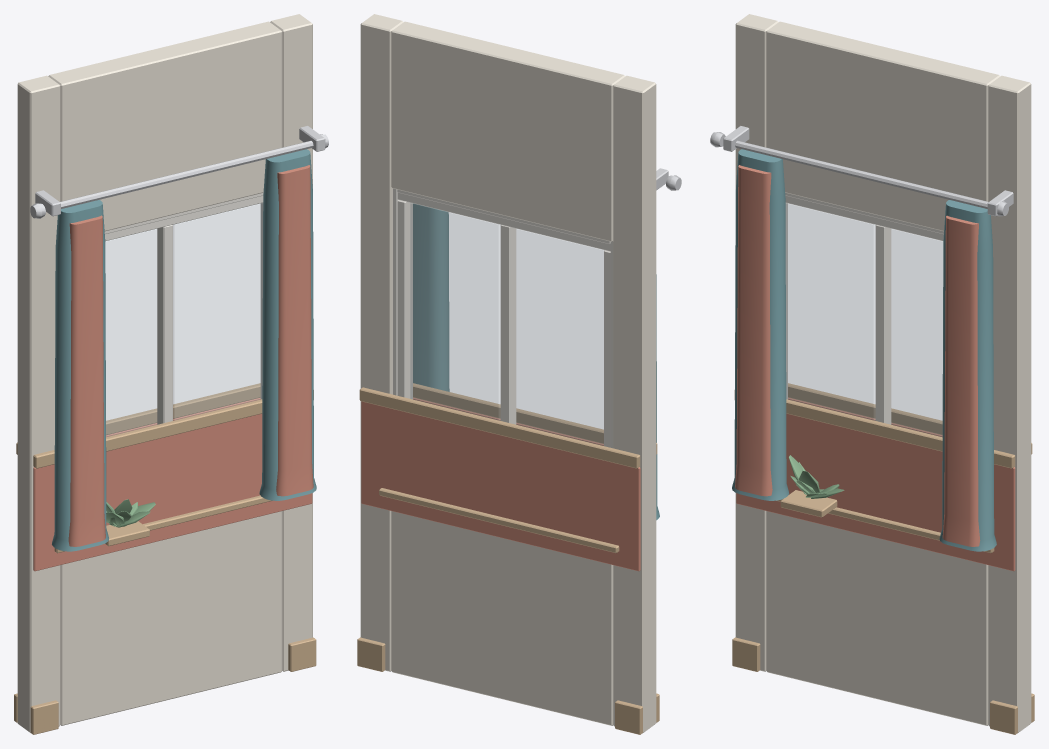
The model's file is care-home-and-day-room-bedroom-window-module-673fc19a__35727.glb.
The picture shows the model from 3 angles, left to right: view 1: azimuth 30°, elevation 25°; view 2: azimuth 150°, elevation 25°; view 3: azimuth 330°, elevation 25°; orthographic projection.
Parts seen in each view (by area): view 1: bedroom-window-module; view 2: bedroom-window-module; view 3: bedroom-window-module.
Part boxes in pixels (x1,y1,x2,y2): bedroom-window-module: (14, 14, 328, 734); bedroom-window-module: (357, 14, 681, 734); bedroom-window-module: (710, 14, 1034, 734).
Size of the model in its own units: 1.24 by 2.6 by 0.295.
